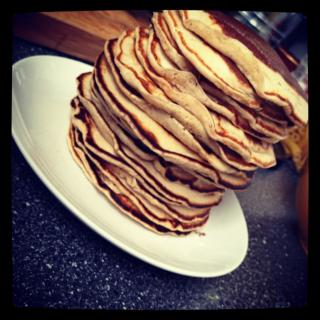Pancake: (77, 11, 308, 234)
